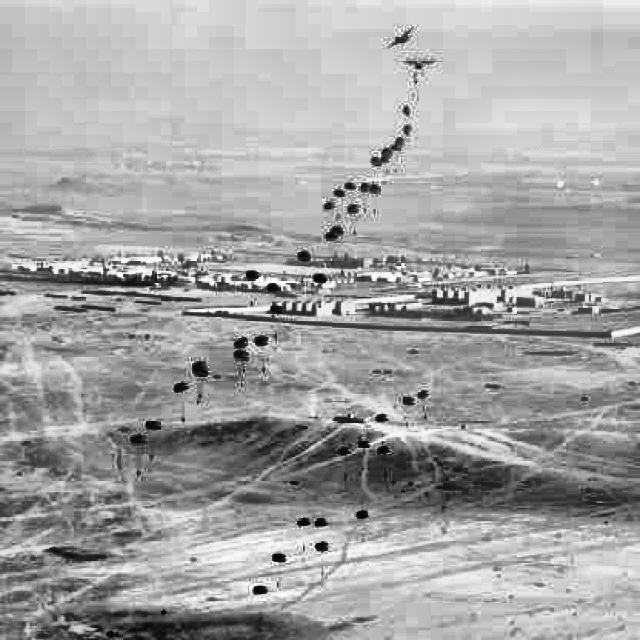C130: (396, 51, 442, 69), (388, 26, 414, 49)
